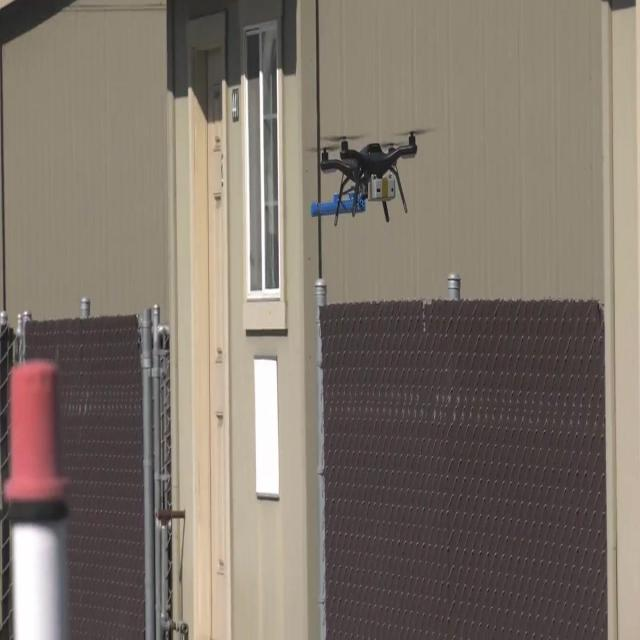drone: (310, 128, 424, 225)
